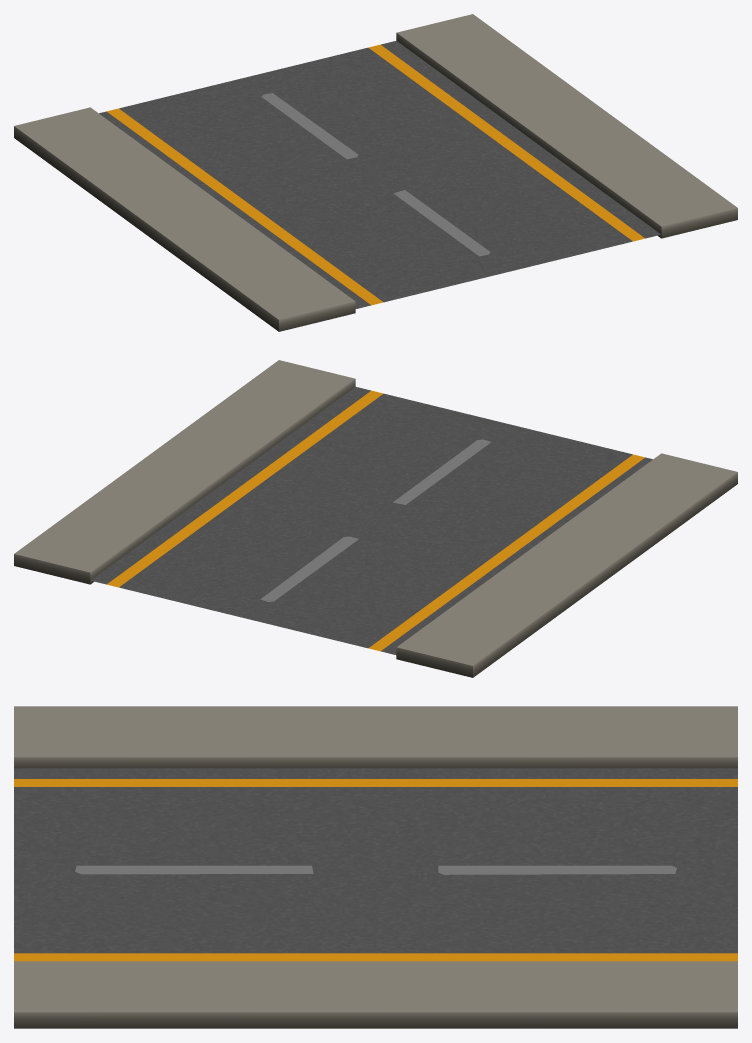
The model's file is Road1.fbx.
3 views of the same model, one above another, from view 1: azimuth 30°, elevation 25°; view 2: azimuth 150°, elevation 25°; view 3: azimuth 270°, elevation 25° (orthographic). The views are drawn at different scales.
Parts seen in each view (by area): view 1: Road_1B026; view 2: Road_1B026; view 3: Road_1B026.
Boxes of the visible parts, x1,y1,x2,y2 form: Road_1B026: [14, 14, 737, 331]; Road_1B026: [14, 360, 737, 677]; Road_1B026: [14, 706, 737, 1028].
Bounding box in the file's own units: 22423 × 561 × 22423.
